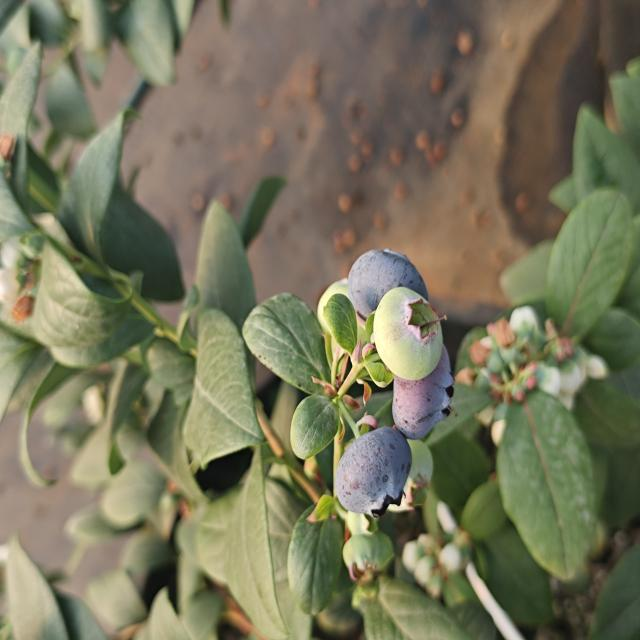ripe: (332, 425, 414, 521), (346, 246, 430, 322), (385, 348, 454, 438)
